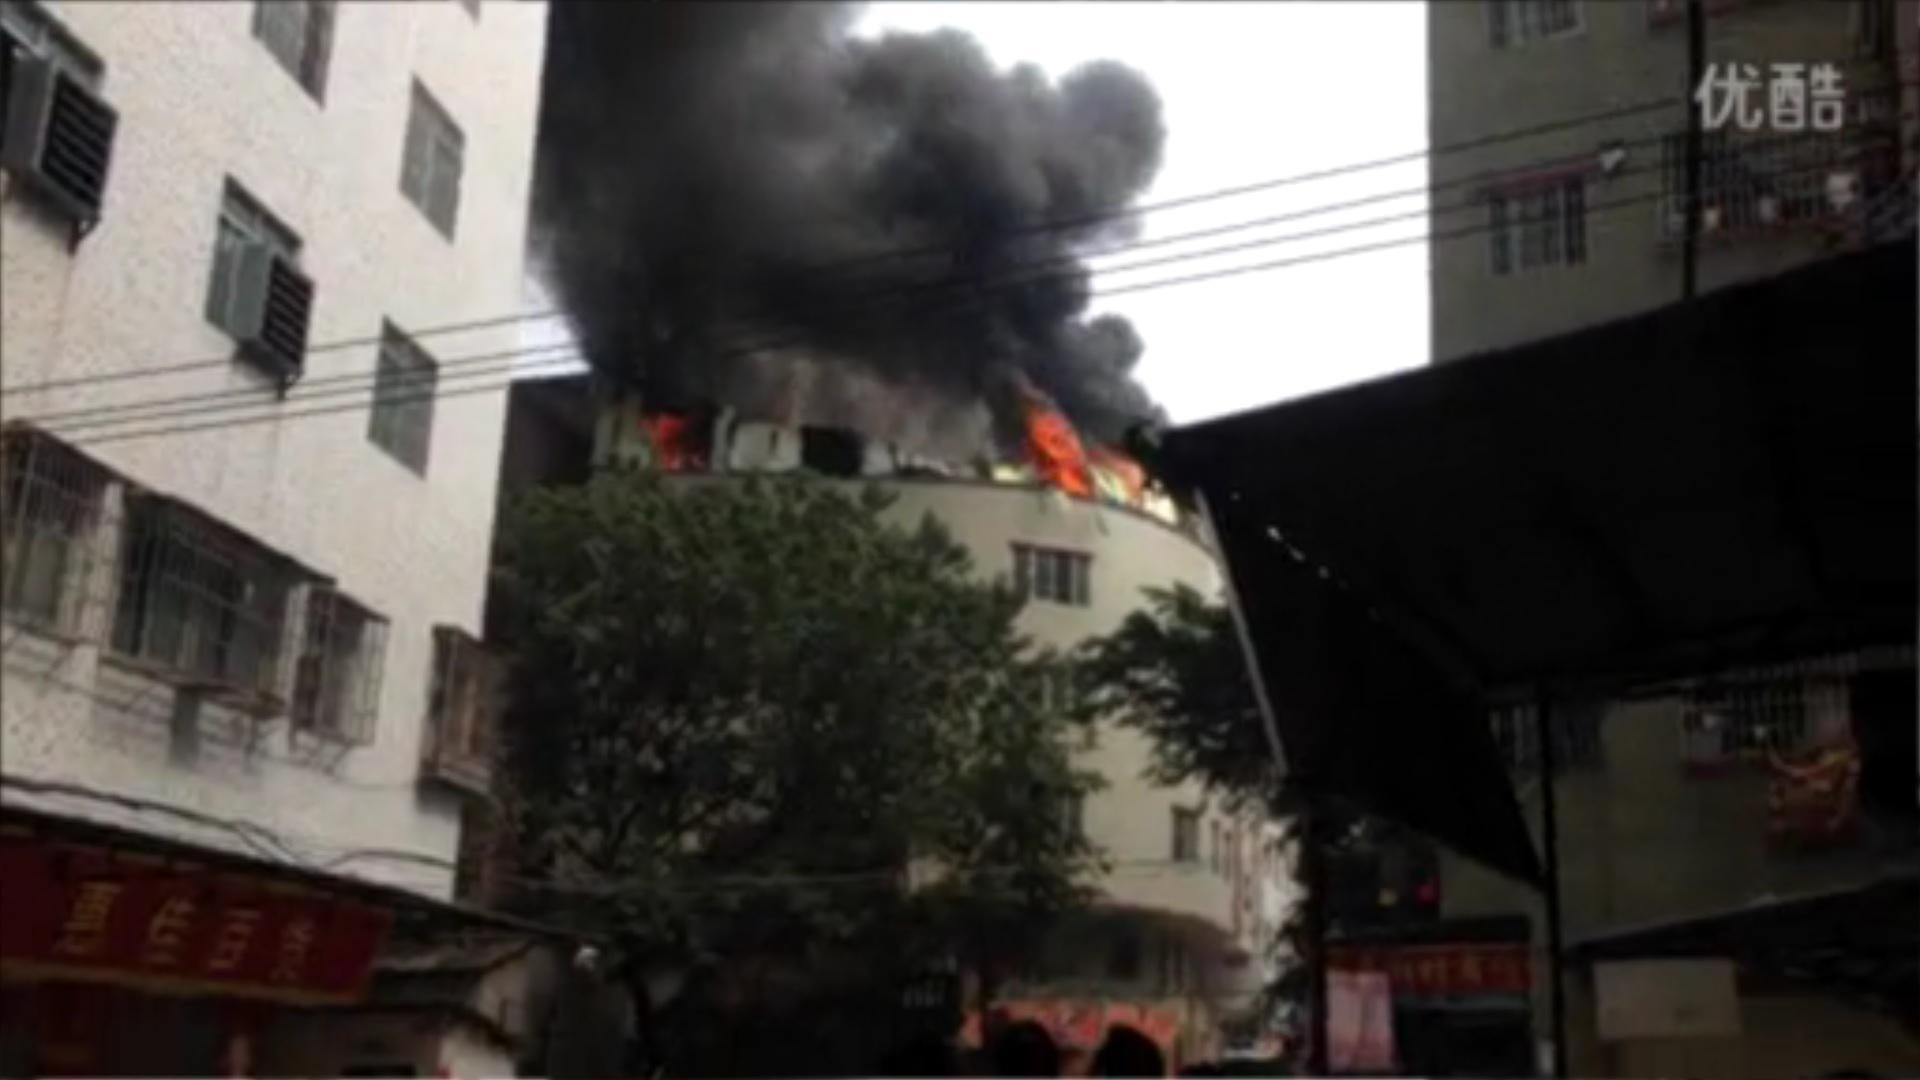fire: (1022, 404, 1151, 501), (644, 406, 699, 467)
